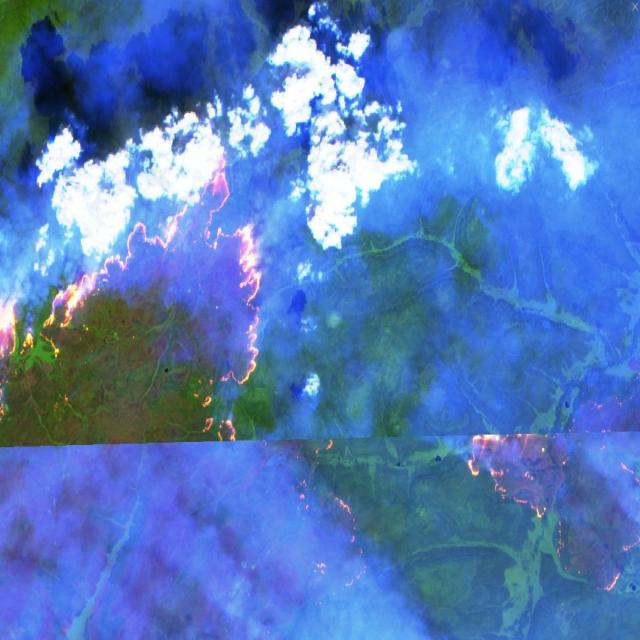fire: (0, 137, 269, 458), (461, 418, 640, 606)
